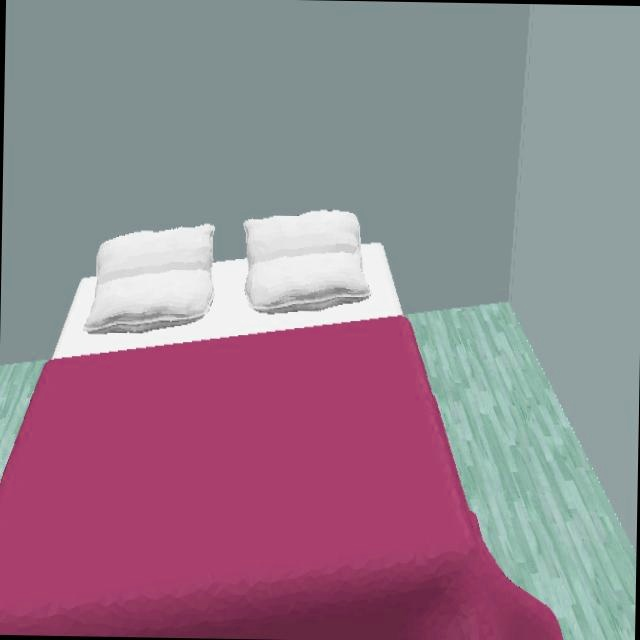bed: (0, 210, 564, 640)
pillow: (83, 223, 215, 335), (242, 209, 370, 315)
